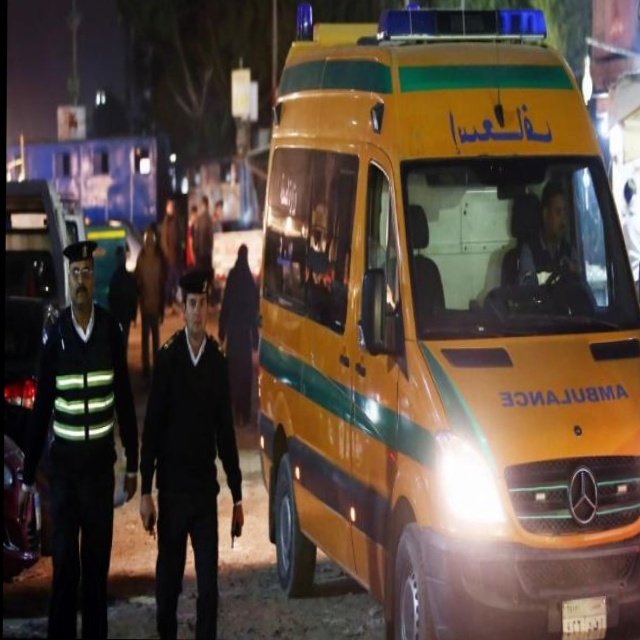Ambulance: (250, 26, 640, 640)
person: (18, 238, 140, 638), (138, 266, 245, 639), (516, 178, 580, 290)
police-car: (5, 196, 106, 309)
